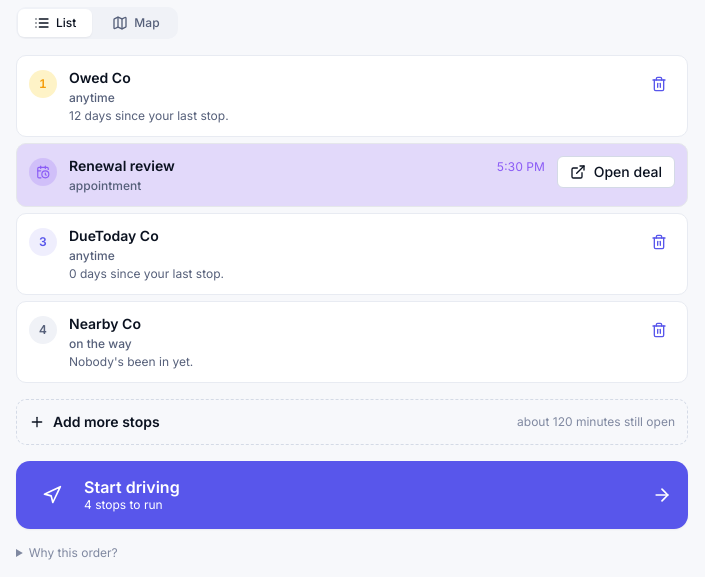
TodaysPathView › removing a flexible stop drops it from the plan
Expected: the text "Owed Co" is shown, [69,68,131,88]
Click the button named "remove owed co". click: (659, 84)
box: [643,68,675,100]
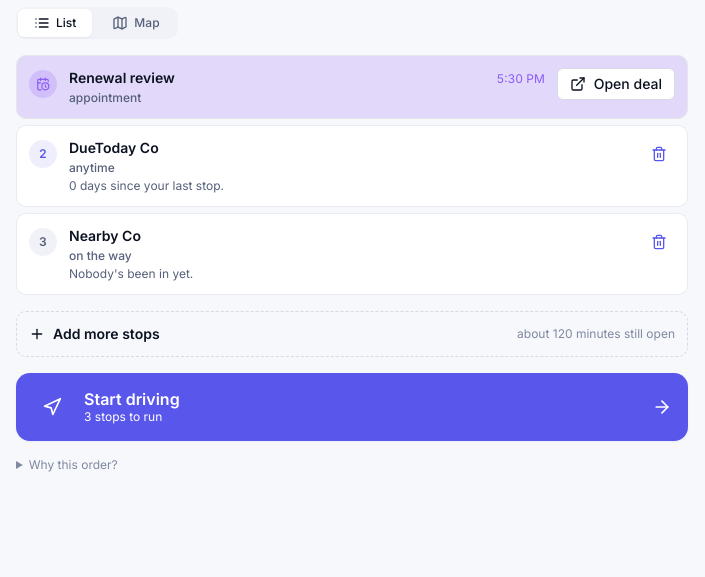
Expected: the text "DueToday Co" is shown, [69,138,159,158]
Now the text "Owed Co" is gone
